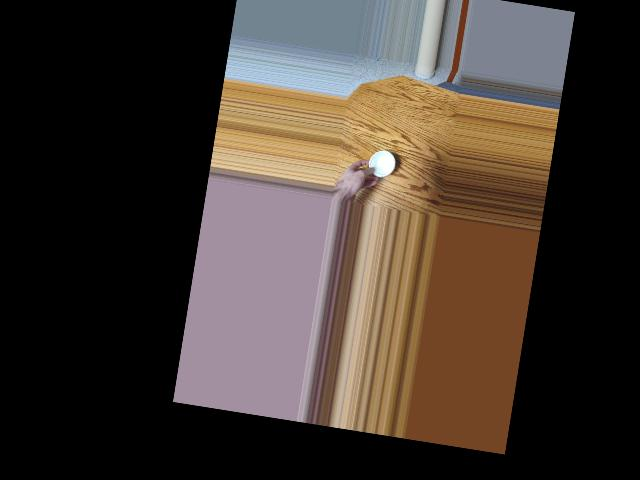cotage: (366, 148, 398, 180)
